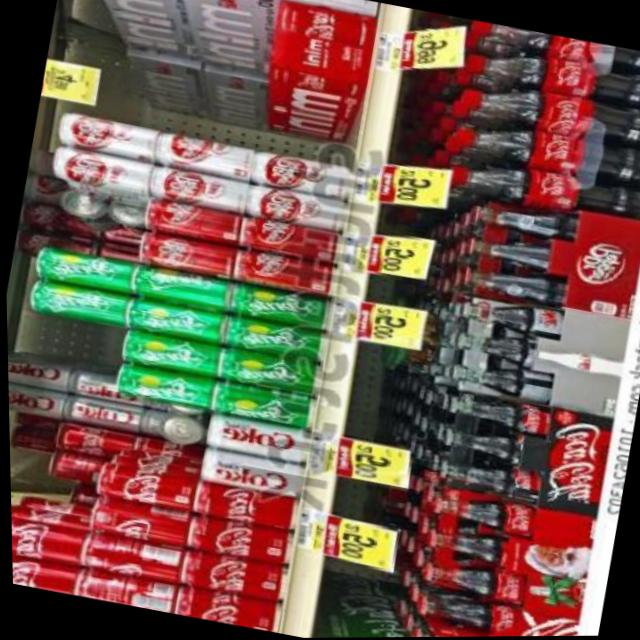Drinks: (445, 154, 640, 231), (454, 74, 640, 154), (452, 114, 640, 191), (460, 42, 640, 116), (469, 19, 640, 82), (193, 444, 305, 501), (77, 529, 185, 588), (177, 547, 284, 605), (189, 478, 297, 535), (90, 458, 197, 515), (52, 109, 160, 165), (85, 494, 190, 550), (46, 145, 154, 198), (201, 411, 309, 464), (249, 149, 353, 202), (237, 215, 341, 268), (232, 247, 336, 300), (24, 276, 128, 329), (117, 327, 221, 380), (111, 361, 215, 414), (225, 281, 329, 334), (183, 515, 289, 567), (415, 557, 524, 607), (242, 183, 346, 235), (140, 196, 244, 248), (30, 243, 134, 295), (122, 294, 226, 346), (221, 314, 325, 366), (214, 346, 318, 398), (209, 380, 313, 432), (147, 163, 249, 216), (135, 230, 238, 282), (127, 262, 230, 314), (169, 583, 276, 633), (154, 131, 256, 183), (430, 488, 536, 538), (434, 454, 541, 503), (70, 567, 176, 615), (455, 392, 551, 439), (9, 512, 85, 569), (59, 393, 146, 437), (10, 549, 75, 595), (6, 351, 71, 393), (7, 379, 66, 421)
